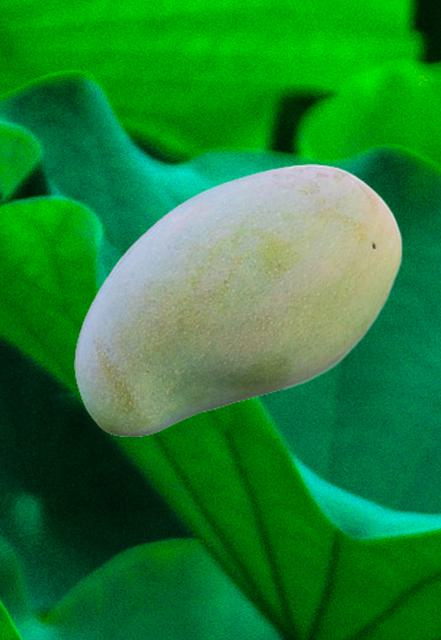green_mango: (74, 164, 402, 435)
